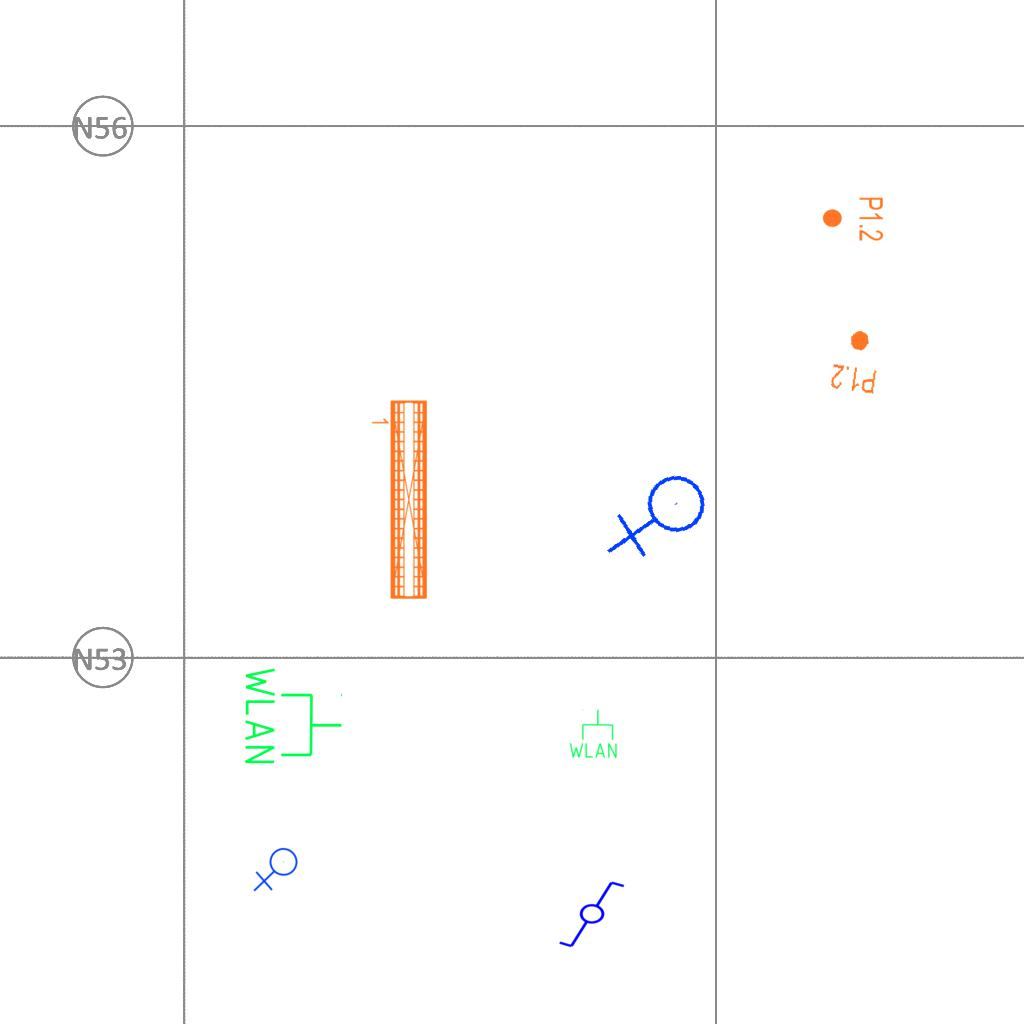Buero_Pendelleuchten_LED: (367, 397, 432, 603)
Downlight_LED_Einbauleuchten_Flur: (828, 326, 884, 396), (821, 196, 885, 242)
Elektroanschluss_allgemein_230V_Geraeteanschlussdose_230V: (605, 464, 718, 574), (253, 847, 302, 894)
WLAN: (241, 663, 345, 768), (567, 708, 619, 760)
Wechselschalter: (557, 879, 635, 951)
